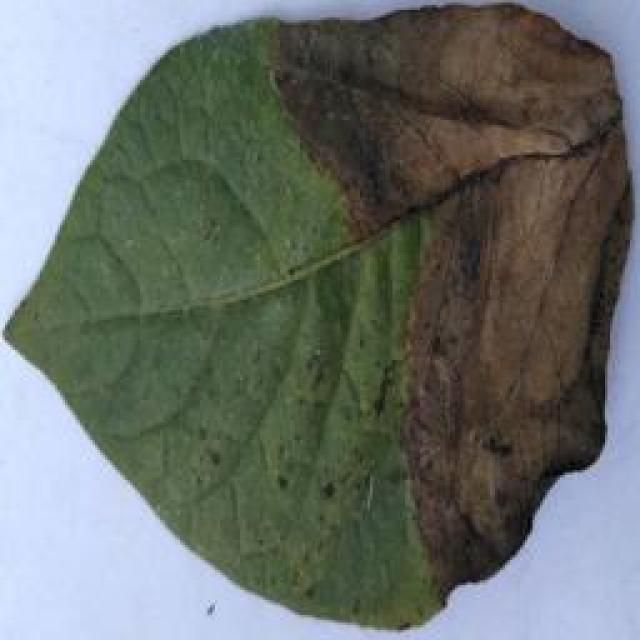Potato_Late_Blight: (7, 8, 638, 635)
